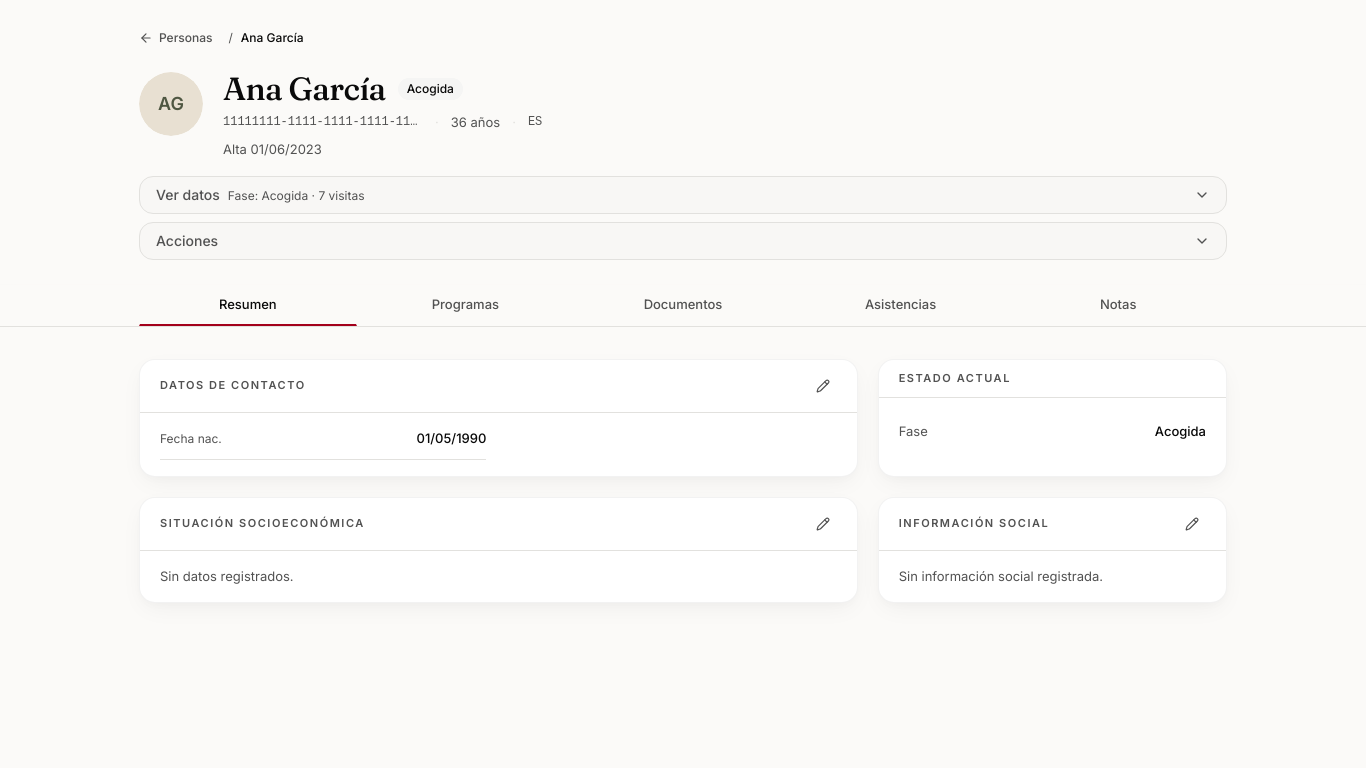
PersonaDetalle — empty states (no fabricated data) › Documentos shows an empty state when a superadmin has none
Click the tab "Documentos" at {"x": 683, "y": 305}, box 574,284 -> 792,326
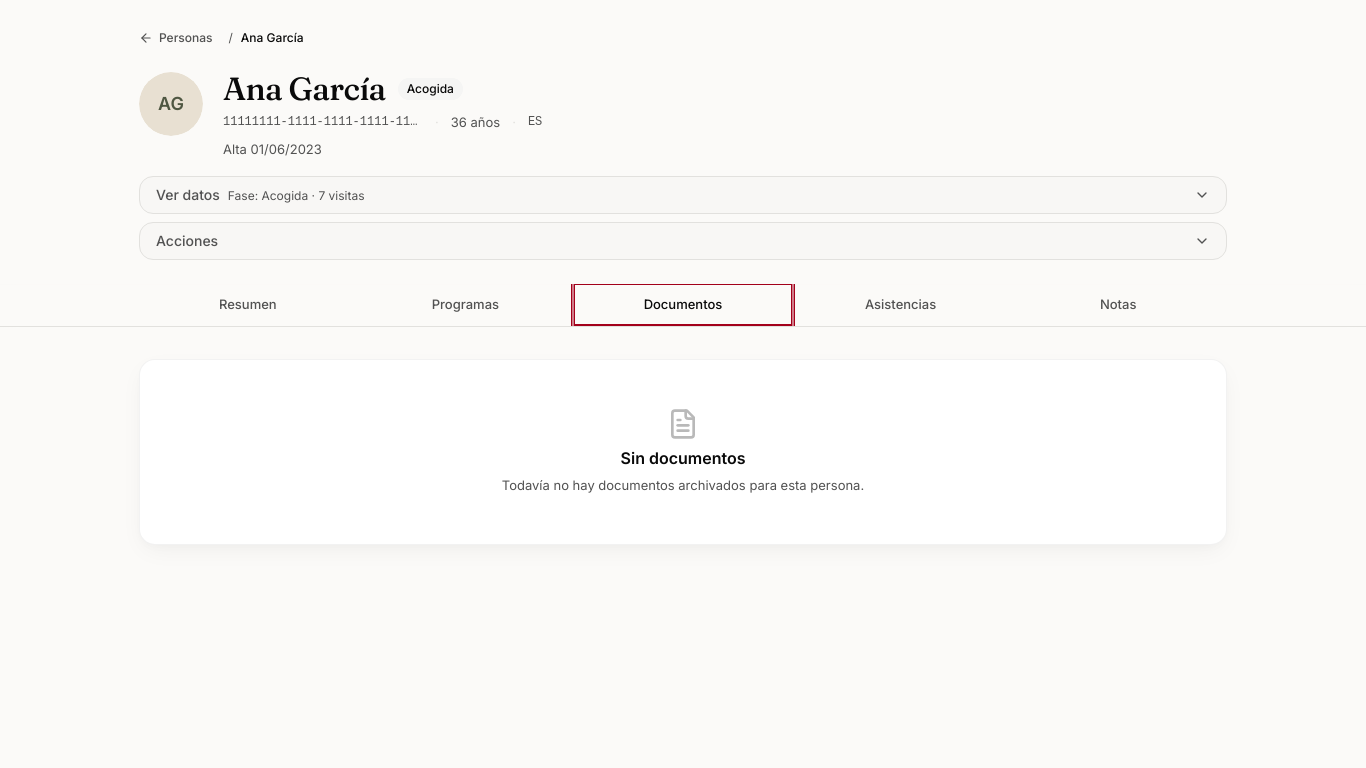
expect the text "Sin documentos" is shown: met, box 620,448 -> 745,468
